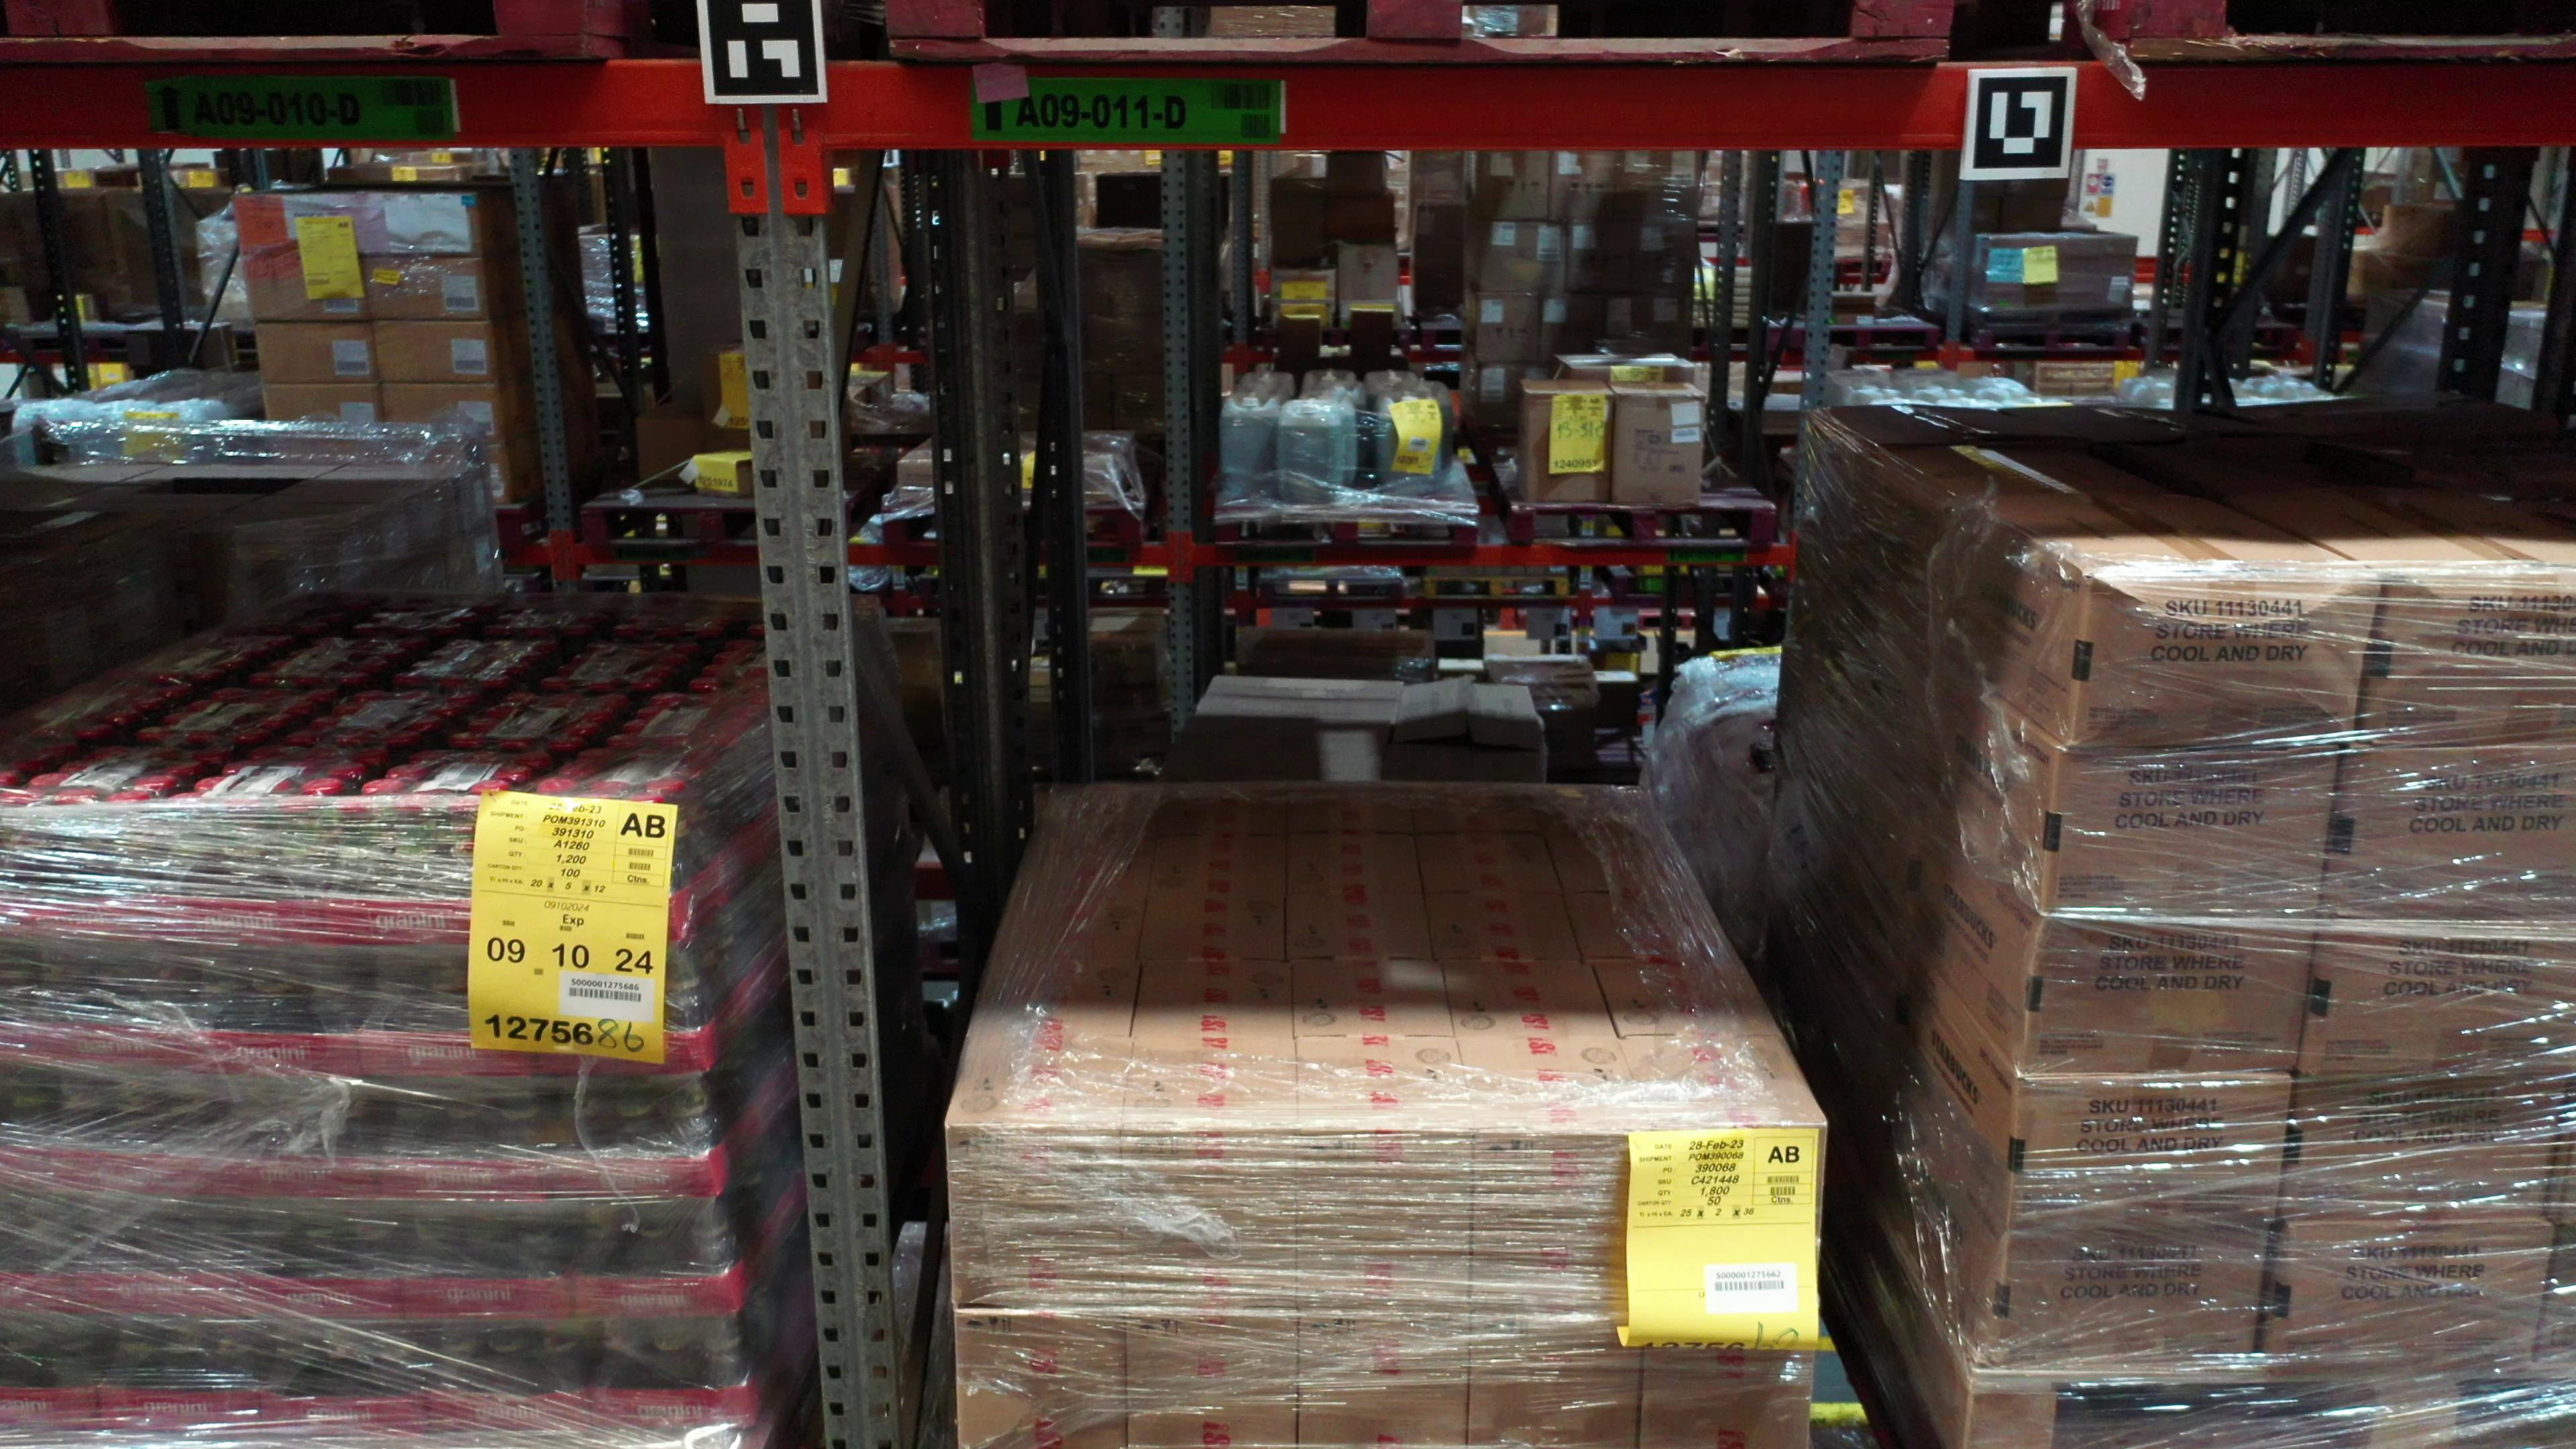-: (2065, 573, 2381, 750), (2040, 743, 2342, 925), (2026, 908, 2316, 1081), (1989, 1205, 2273, 1375), (2291, 916, 2576, 1086), (2259, 1224, 2560, 1384), (2319, 741, 2576, 920), (2008, 1070, 2288, 1224), (2284, 1074, 2571, 1219), (2355, 577, 2576, 752), (1637, 1127, 1826, 1316), (947, 1120, 1123, 1315), (1120, 1123, 1299, 1315), (1293, 1127, 1472, 1315), (1467, 1132, 1642, 1322), (140, 803, 331, 943), (322, 800, 506, 945), (497, 803, 681, 947), (1123, 1307, 1304, 1449), (1637, 1307, 1817, 1449), (345, 945, 534, 1079), (1467, 1307, 1645, 1449), (518, 943, 706, 1077), (1293, 1307, 1470, 1449), (955, 1307, 1131, 1449), (196, 943, 363, 1081), (534, 1072, 717, 1198), (71, 1189, 244, 1320), (48, 941, 212, 1077), (255, 1322, 430, 1449), (235, 1198, 405, 1323), (375, 1077, 547, 1201), (0, 801, 150, 941), (96, 1322, 264, 1445), (51, 1070, 218, 1192), (400, 1203, 575, 1318), (425, 1325, 589, 1447), (573, 1198, 738, 1320), (214, 1077, 380, 1196), (587, 1318, 754, 1435), (0, 1187, 78, 1320), (0, 1062, 55, 1191), (0, 932, 51, 1069)
